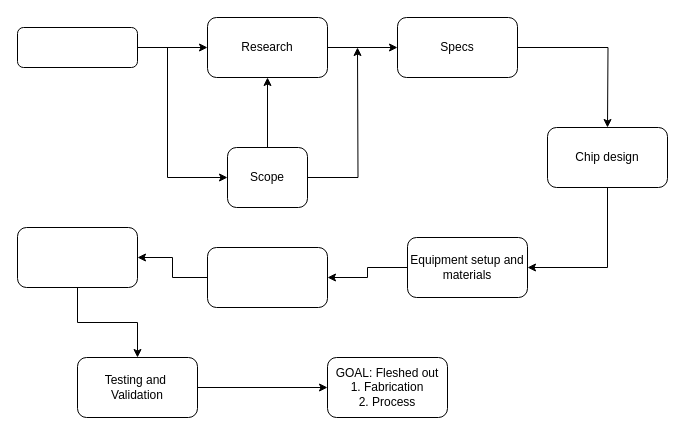
Some shapes in this 685 by 435 pixel diagram are drawn without their labels. The shapes that lost their labels are listed below. From the top down, each one's centre as x and y in pixels, then its label:
At (x=77, y=47): "Project Definition".
At (x=77, y=257): "Packaging".
At (x=267, y=277): "Fabrication".
